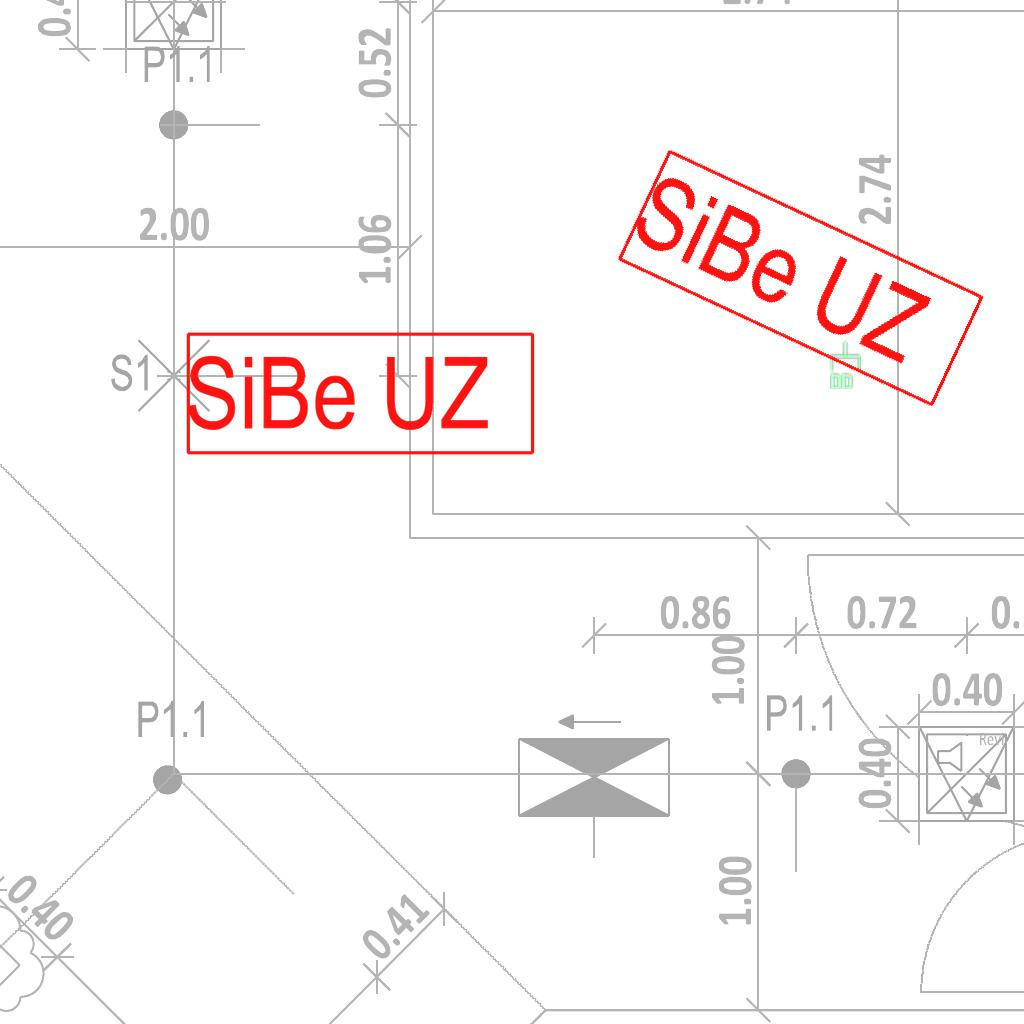Datenanschluss_zweifach: (828, 340, 862, 391)
Zentrale_Sicherheitsbeleuchtung: (612, 144, 991, 414), (183, 329, 540, 459)
